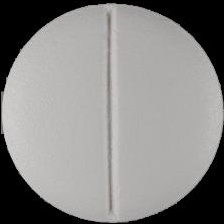0185-0117: (0, 0, 224, 224)
